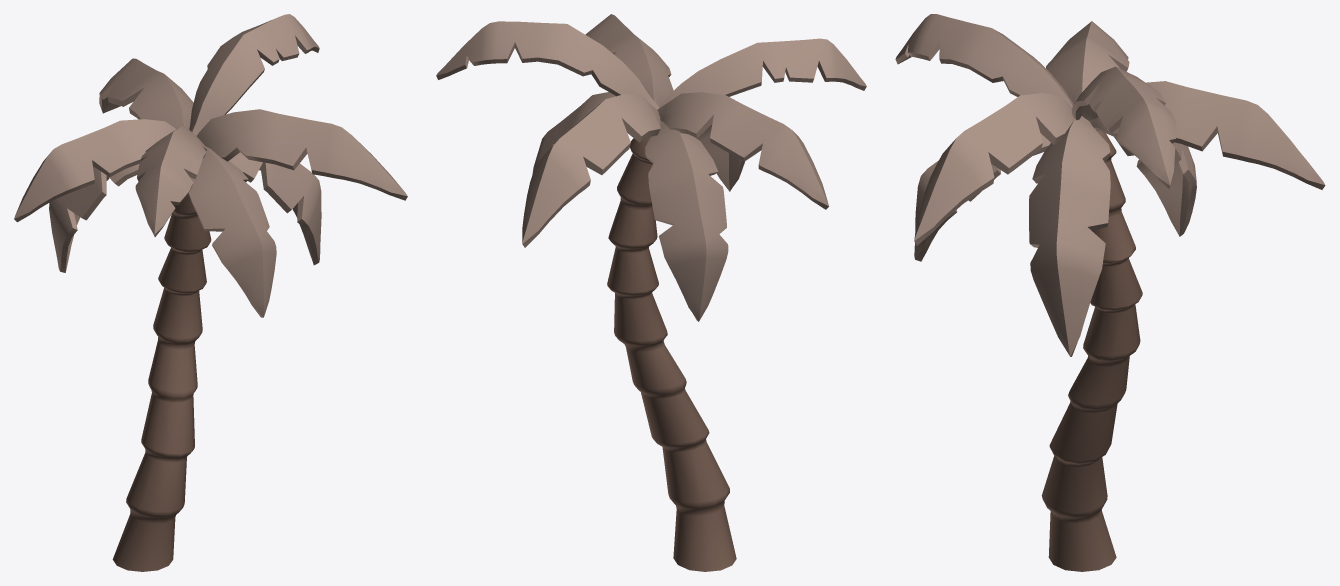
The model's file is palmera1.glb.
3 views of the same model, side by side, from view 1: azimuth 30°, elevation 25°; view 2: azimuth 150°, elevation 25°; view 3: azimuth 270°, elevation 25° (orthographic). The views are drawn at different scales.
Visible parts, largest first — view 1: Environment_PalmTree_1; view 2: Environment_PalmTree_1; view 3: Environment_PalmTree_1.
Part boxes in pixels (x1=…): Environment_PalmTree_1: x1=14, y1=14, x2=407, y2=571; Environment_PalmTree_1: x1=436, y1=14, x2=866, y2=571; Environment_PalmTree_1: x1=895, y1=14, x2=1325, y2=571.
Bounding box in the file's own units: 2.61 × 3.59 × 2.52.
1 material, 1 textured.
